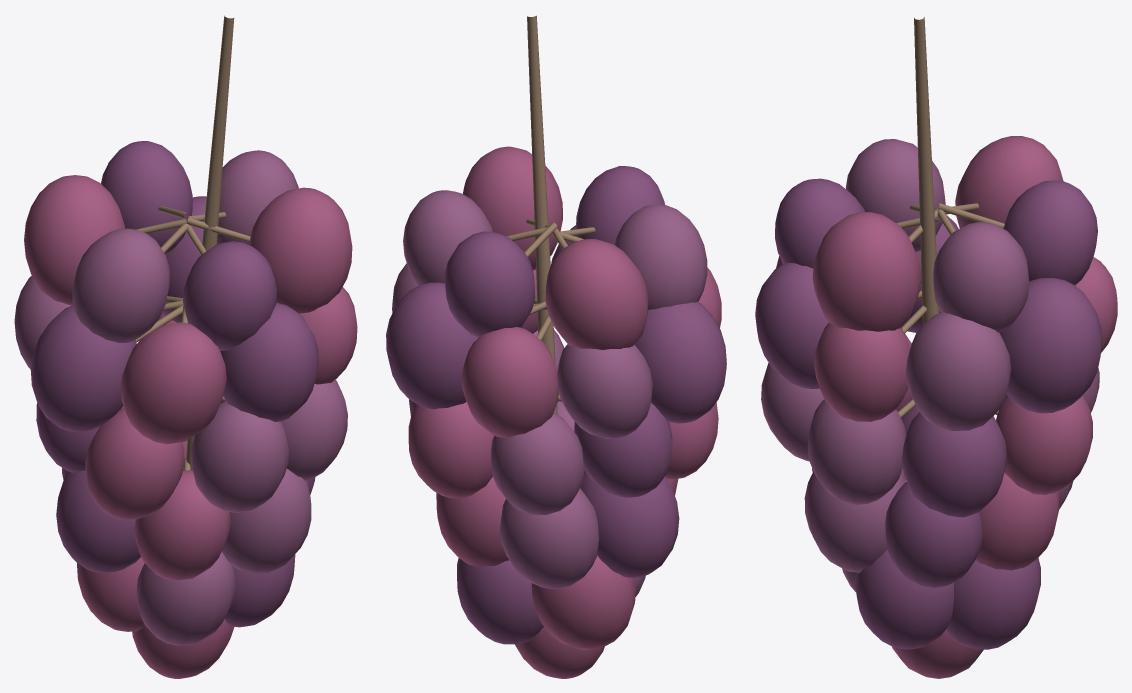
File: red_grapes.glb
The picture shows the model from 3 angles, left to right: view 1: azimuth 30°, elevation 25°; view 2: azimuth 150°, elevation 25°; view 3: azimuth 270°, elevation 25°; orthographic projection. The views are drawn at different scales.
Parts seen in each view (by area): view 1: Fruit_07_Red_Grapes_Grape_19, Fruit_07_Red_Grapes_Grape_31, Fruit_07_Red_Grapes_Grape_20, Fruit_07_Red_Grapes_Grape_27, Fruit_07_Red_Grapes_Grape_12, Fruit_07_Red_Grapes_Grape_26, Fruit_07_Red_Grapes_Grape_28, Fruit_07_Red_Grapes_Grape_32, Fruit_07_Red_Grapes_Grape_13, Fruit_07_Red_Grapes_Grape_7, Fruit_07_Red_Grapes_Grape_29, Fruit_07_Red_Grapes_Grape_3 (+12 smaller); view 2: Fruit_07_Red_Grapes_Grape_28, Fruit_07_Red_Grapes_Grape_22, Fruit_07_Red_Grapes_Grape_20, Fruit_07_Red_Grapes_Grape_23, Fruit_07_Red_Grapes_Grape_29, Fruit_07_Red_Grapes_Grape_21, Fruit_07_Red_Grapes_Grape_15, Fruit_07_Red_Grapes_Grape_9, Fruit_07_Red_Grapes_Grape_27, Fruit_07_Red_Grapes_Grape_8, Fruit_07_Red_Grapes_Grape_16, Fruit_07_Red_Grapes_Grape_4 (+11 smaller); view 3: Fruit_07_Red_Grapes_Grape_31, Fruit_07_Red_Grapes_Grape_23, Fruit_07_Red_Grapes_Grape_24, Fruit_07_Red_Grapes_Grape_17, Fruit_07_Red_Grapes_Grape_30, Fruit_07_Red_Grapes_Grape_25, Fruit_07_Red_Grapes_Grape_18, Fruit_07_Red_Grapes_Grape_29, Fruit_07_Red_Grapes_Grape_16, Fruit_07_Red_Grapes_Grape_11, Fruit_07_Red_Grapes_Grape_26, Fruit_07_Red_Grapes_Grape_5 (+11 smaller).
Boxes of the visible parts, <box> form: Fruit_07_Red_Grapes_Grape_19: <box>120,322,226,444</box>; Fruit_07_Red_Grapes_Grape_31: <box>248,187,352,313</box>; Fruit_07_Red_Grapes_Grape_20: <box>30,305,136,431</box>; Fruit_07_Red_Grapes_Grape_27: <box>72,228,170,342</box>; Fruit_07_Red_Grapes_Grape_12: <box>190,401,288,512</box>; Fruit_07_Red_Grapes_Grape_26: <box>220,302,318,421</box>; Fruit_07_Red_Grapes_Grape_28: <box>24,175,124,305</box>; Fruit_07_Red_Grapes_Grape_32: <box>183,241,276,350</box>; Fruit_07_Red_Grapes_Grape_13: <box>85,408,184,520</box>; Fruit_07_Red_Grapes_Grape_7: <box>134,470,230,580</box>; Fruit_07_Red_Grapes_Grape_29: <box>101,141,192,254</box>; Fruit_07_Red_Grapes_Grape_3: <box>136,551,235,645</box>; Fruit_07_Red_Grapes_Grape_28: <box>545,239,648,349</box>; Fruit_07_Red_Grapes_Grape_22: <box>461,327,558,437</box>; Fruit_07_Red_Grapes_Grape_20: <box>634,301,726,423</box>; Fruit_07_Red_Grapes_Grape_23: <box>386,282,478,409</box>; Fruit_07_Red_Grapes_Grape_29: <box>445,231,535,337</box>; Fruit_07_Red_Grapes_Grape_21: <box>557,344,652,438</box>; Fruit_07_Red_Grapes_Grape_15: <box>490,412,583,514</box>; Fruit_07_Red_Grapes_Grape_9: <box>499,488,599,588</box>; Fruit_07_Red_Grapes_Grape_27: <box>615,204,707,309</box>; Fruit_07_Red_Grapes_Grape_8: <box>580,470,679,577</box>; Fruit_07_Red_Grapes_Grape_16: <box>408,402,494,498</box>; Fruit_07_Red_Grapes_Grape_4: <box>531,555,635,649</box>; Fruit_07_Red_Grapes_Grape_31: <box>812,212,921,331</box>; Fruit_07_Red_Grapes_Grape_23: <box>1000,278,1101,413</box>; Fruit_07_Red_Grapes_Grape_24: <box>906,312,1011,430</box>; Fruit_07_Red_Grapes_Grape_17: <box>902,412,1006,517</box>; Fruit_07_Red_Grapes_Grape_30: <box>933,222,1029,332</box>; Fruit_07_Red_Grapes_Grape_25: <box>814,322,909,421</box>; Fruit_07_Red_Grapes_Grape_18: <box>807,399,905,504</box>; Fruit_07_Red_Grapes_Grape_29: <box>1003,180,1097,285</box>; Fruit_07_Red_Grapes_Grape_16: <box>996,394,1092,494</box>; Fruit_07_Red_Grapes_Grape_11: <box>885,481,982,587</box>; Fruit_07_Red_Grapes_Grape_26: <box>755,263,828,388</box>; Fruit_07_Red_Grapes_Grape_5: <box>946,558,1040,649</box>.
Bounding box in the file's own units: 0.0759 × 0.1541 × 0.0746.
